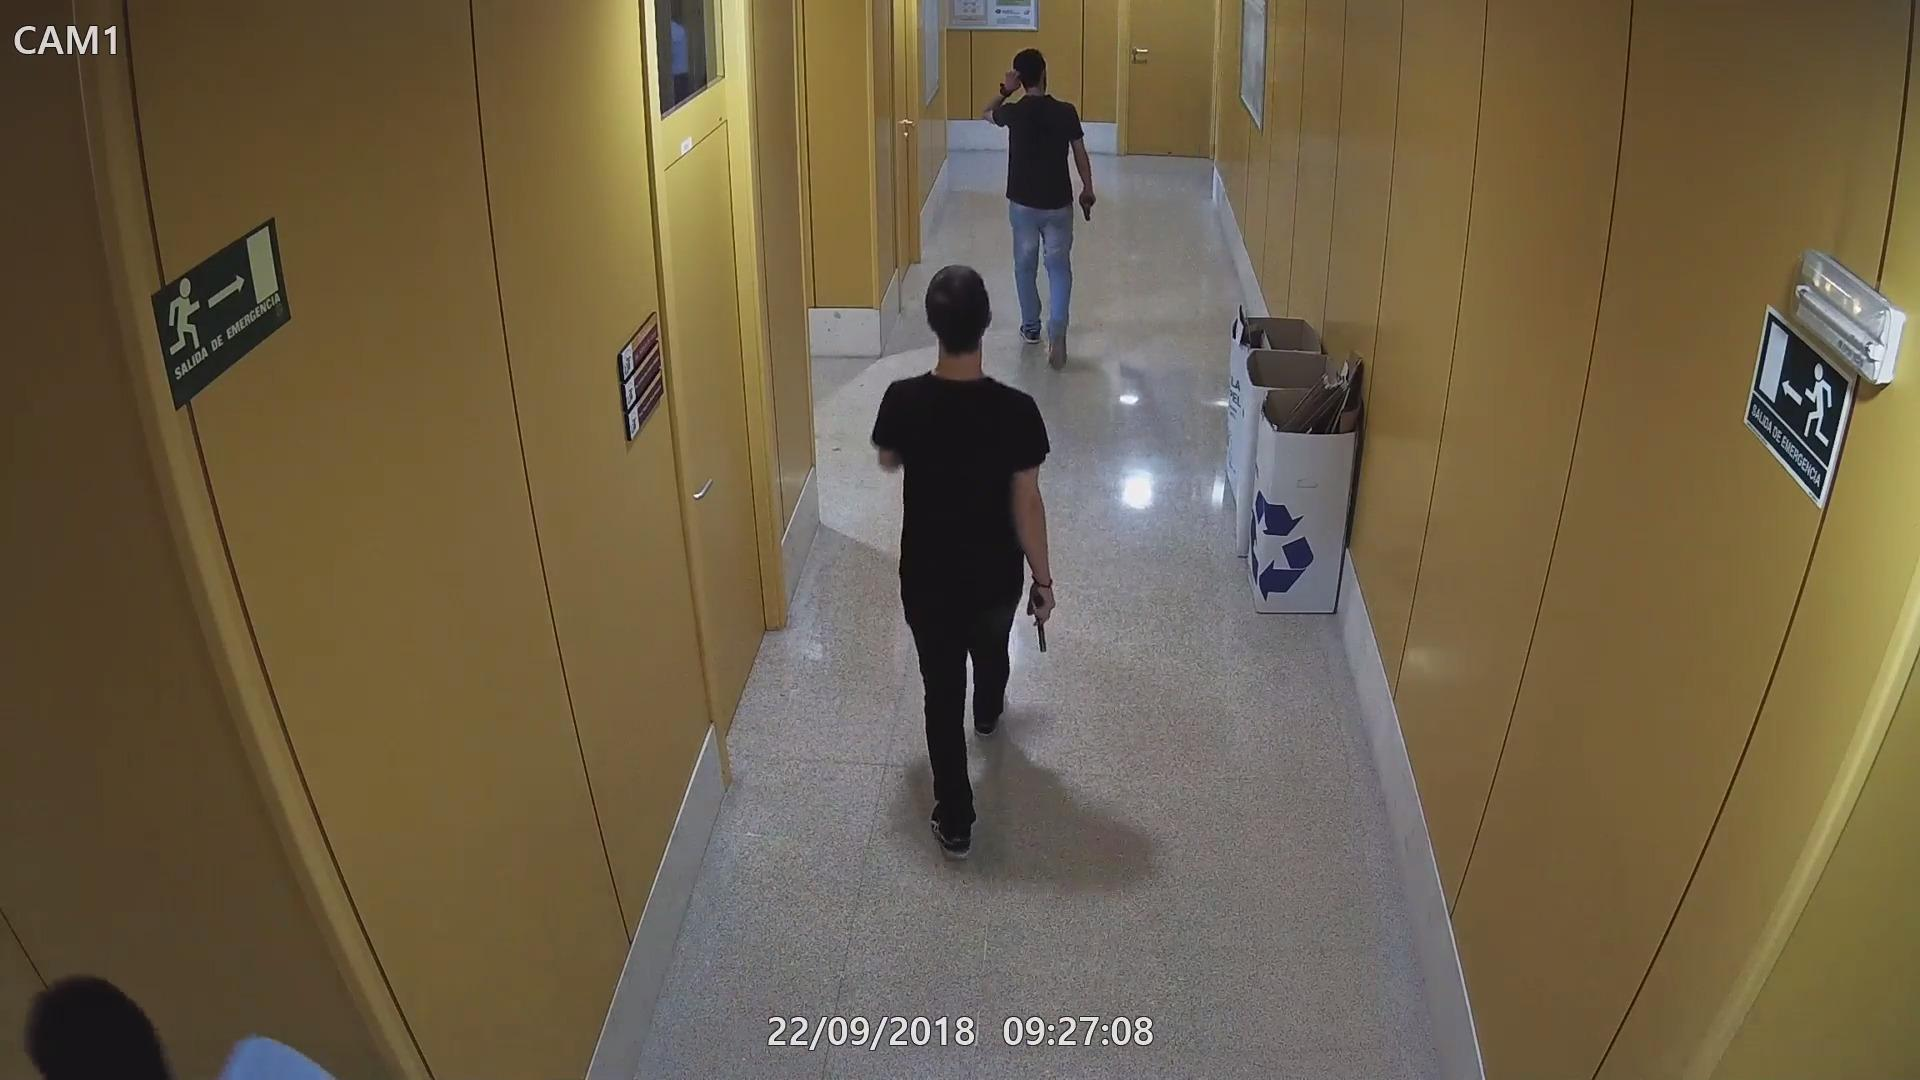Handgun: (1025, 582, 1058, 651), (1073, 191, 1101, 222)
